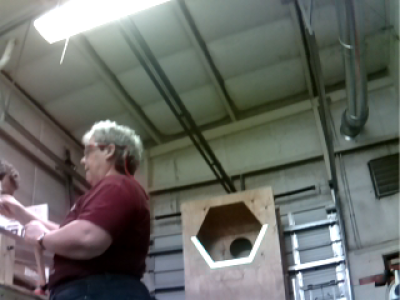target: (191, 224, 267, 269)
